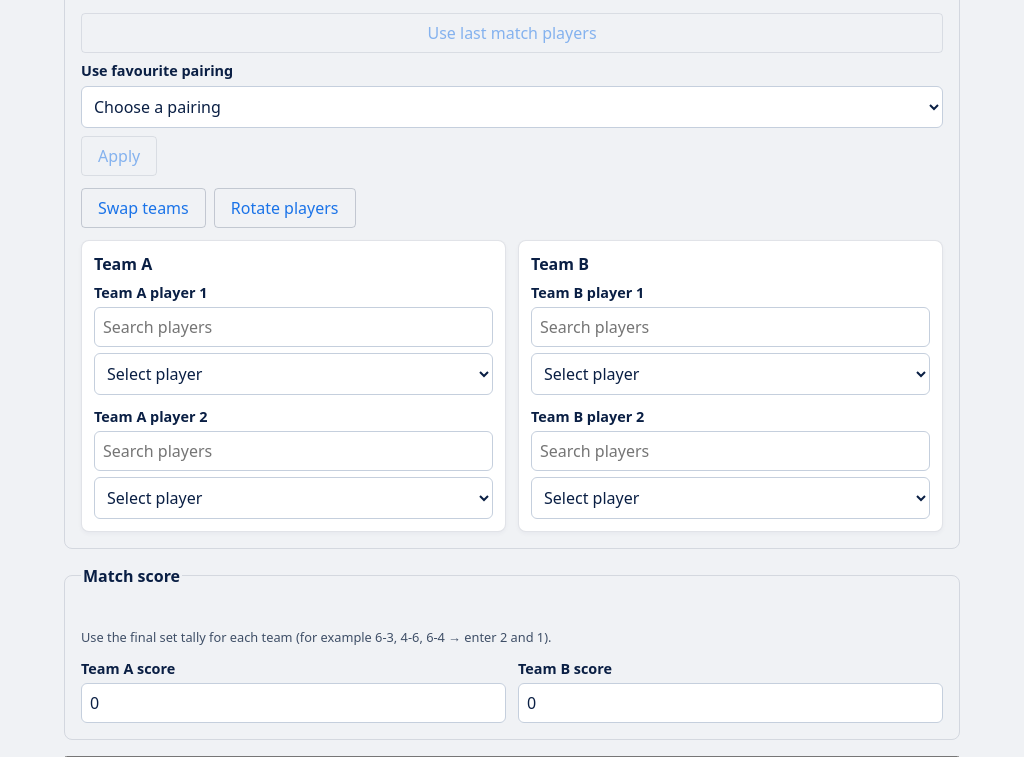
RecordSportForm › rejects duplicate player selections
(page scrolled)
Select "Alice" in the dropdown labelled "Team A player 1" at point(294, 374), box [94,353,493,395]
Select "Alice" in the dropdown labelled "Team A player 2" at point(294, 498), box [94,477,493,519]
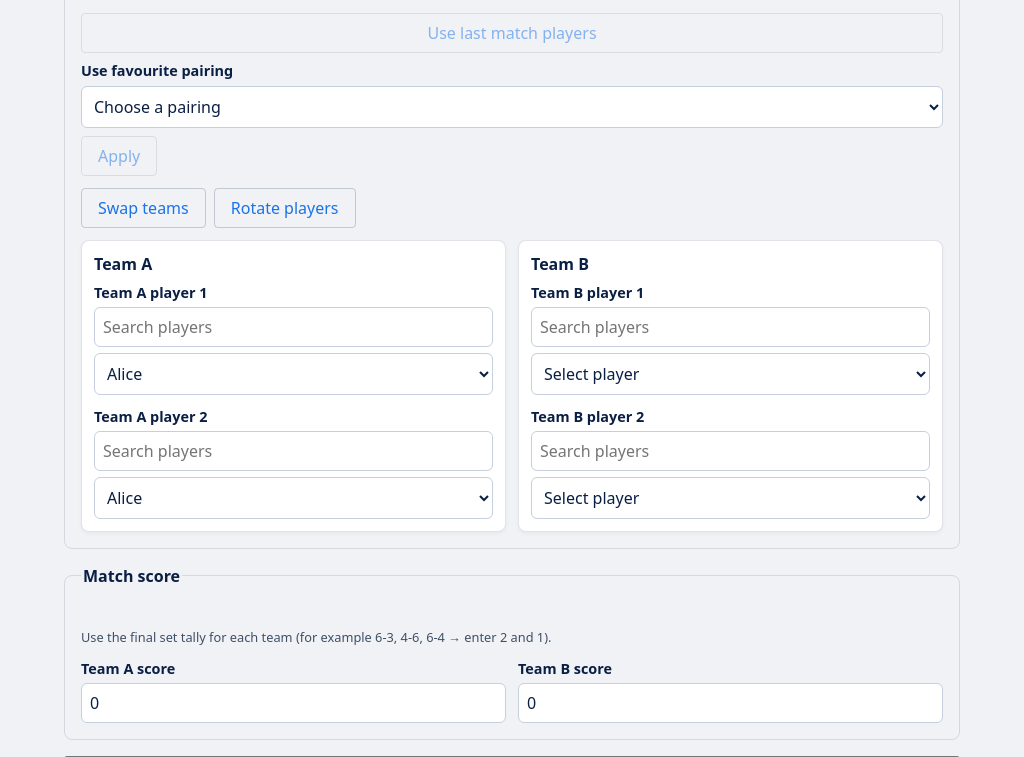
Select "Bob" in the dropdown labelled "Team B player 1" at point(730, 374), box [531,353,930,395]
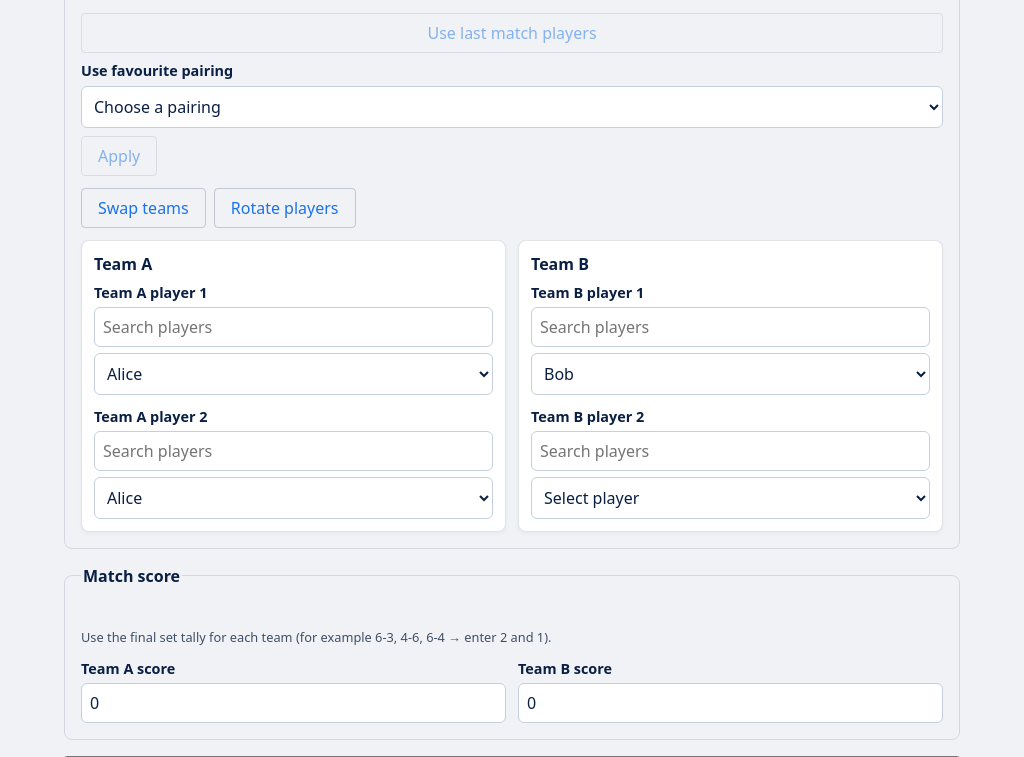
Select "Cara" in the dropdown labelled "Team B player 2" at point(730, 498), box [531,477,930,519]
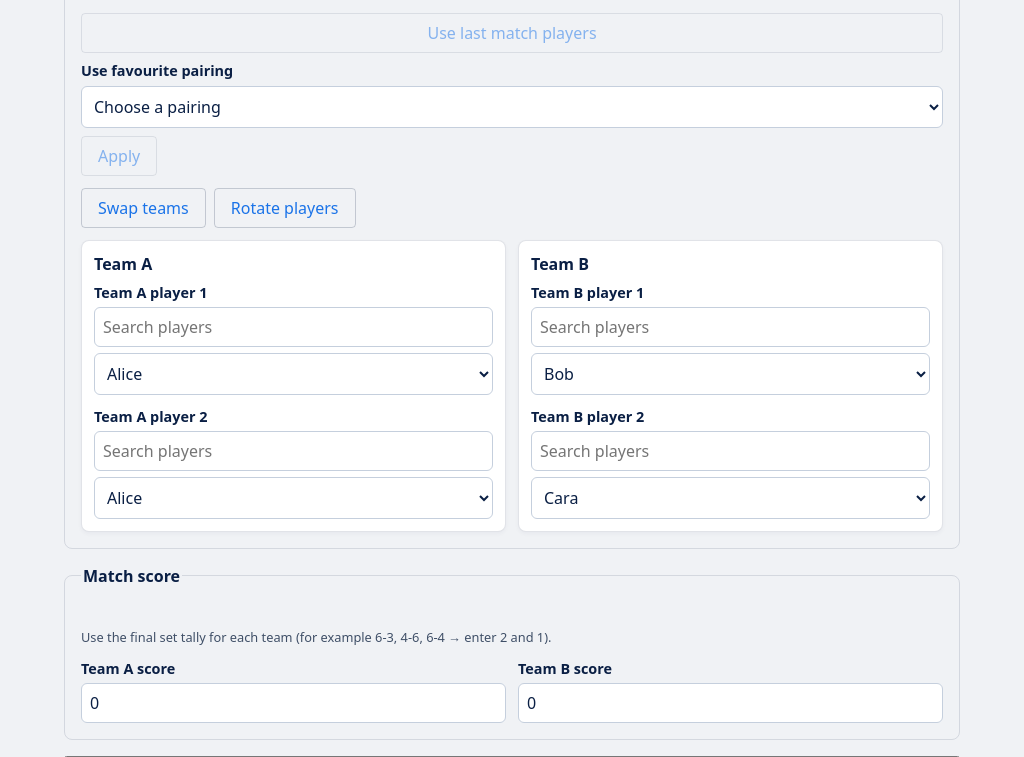
Replace the text in the number field labelled "Team A score" with "2" at point(294, 703), box [81,683,506,723]
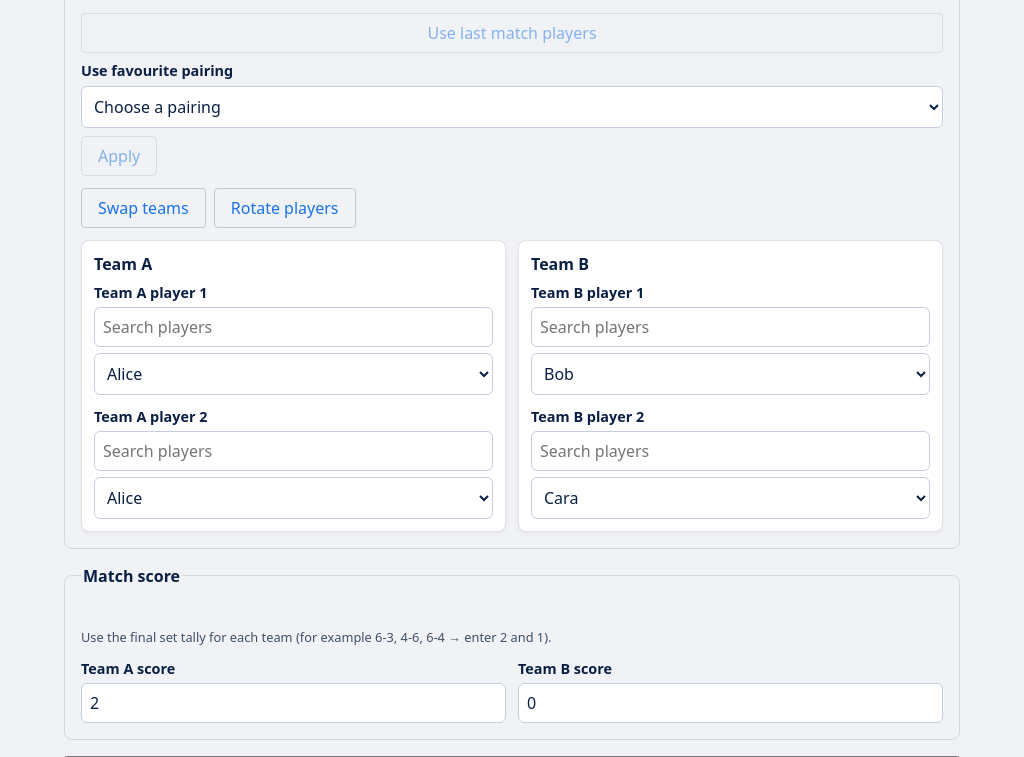
Replace the text in the number field labelled "Team B score" with "1" at point(730, 703), box [518,683,943,723]
(page scrolled)
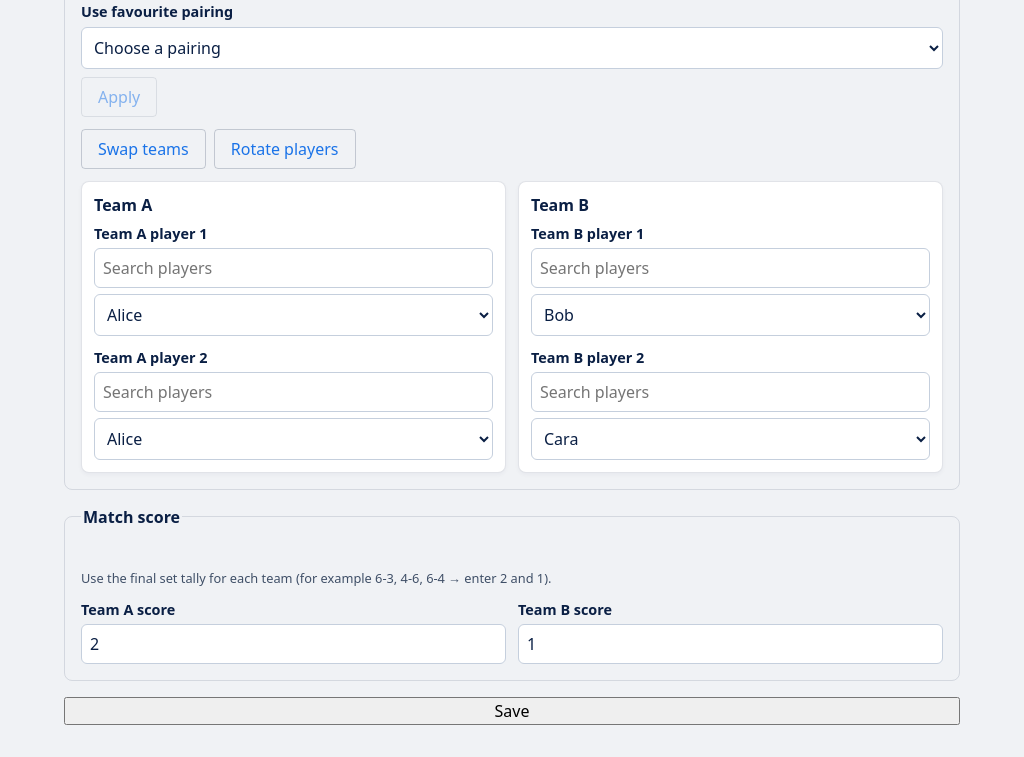
Click the button "Save" at point(512, 711), box [64,697,960,725]
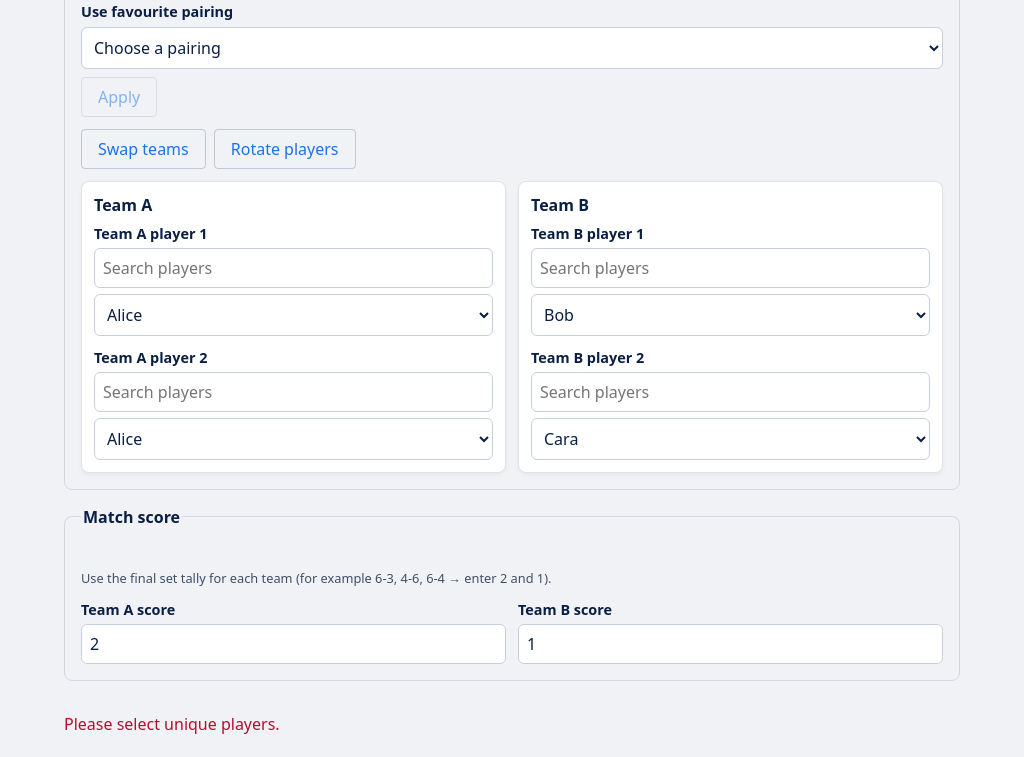
Expected: the text "Please select unique players." is shown, [64,713,280,735]
